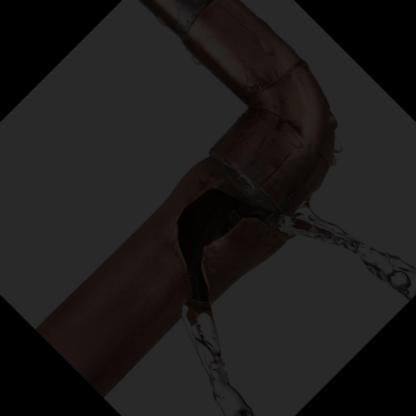burst: (149, 170, 309, 310)
